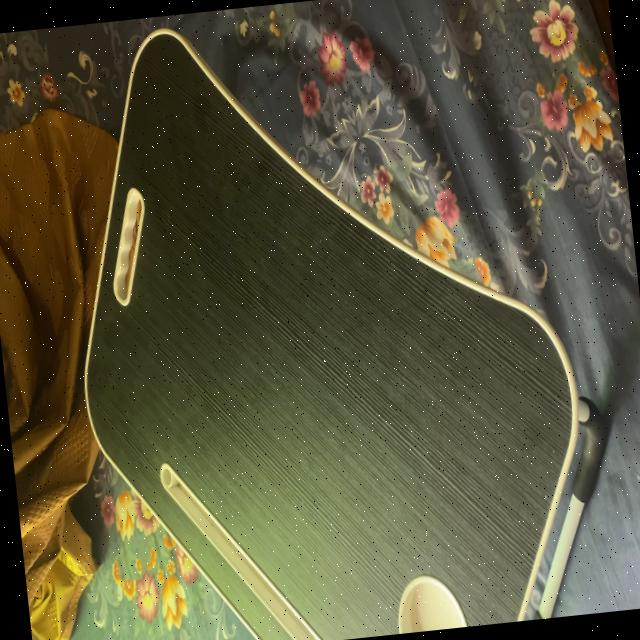table: (31, 0, 612, 640)
